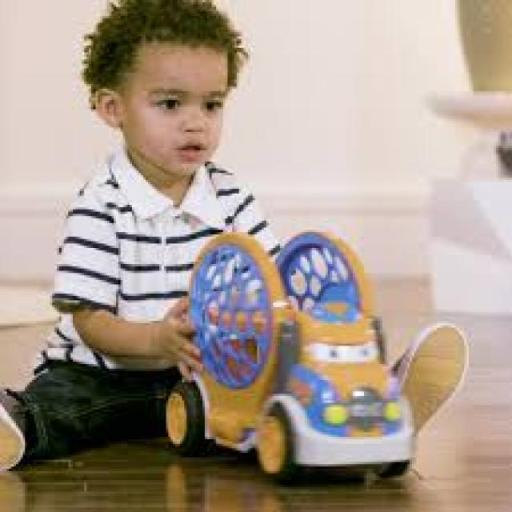baby: (0, 0, 283, 472)
